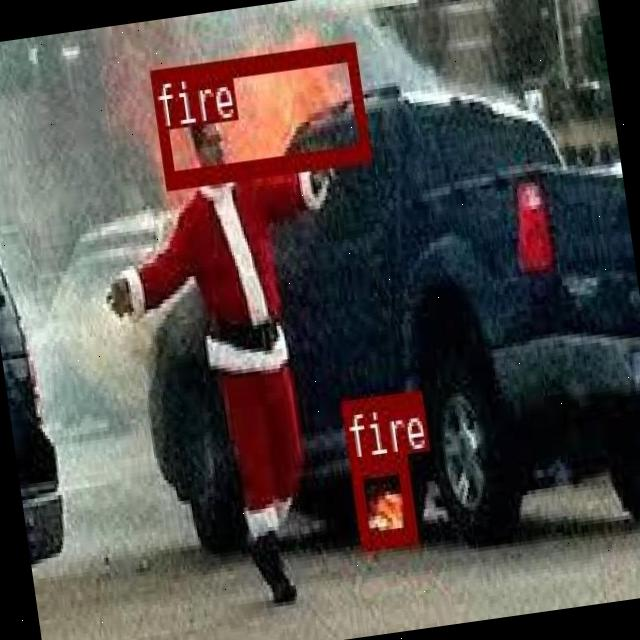fire: (148, 42, 368, 185), (349, 454, 416, 546)
